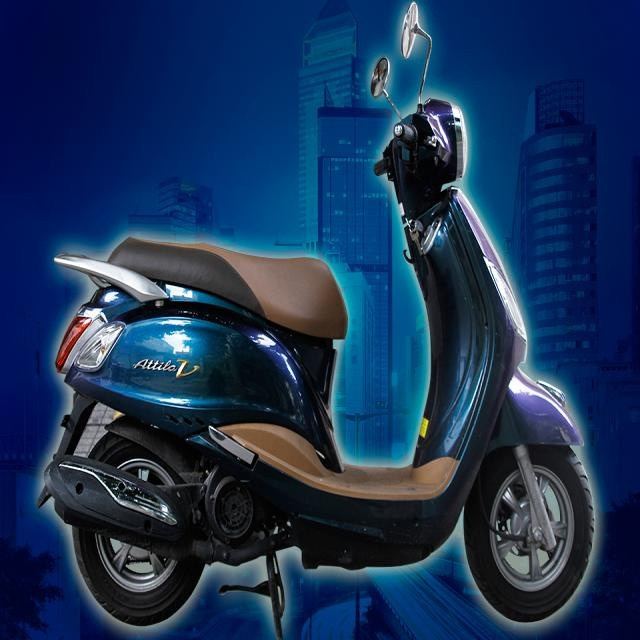Motorcycle: (27, 0, 598, 640)
